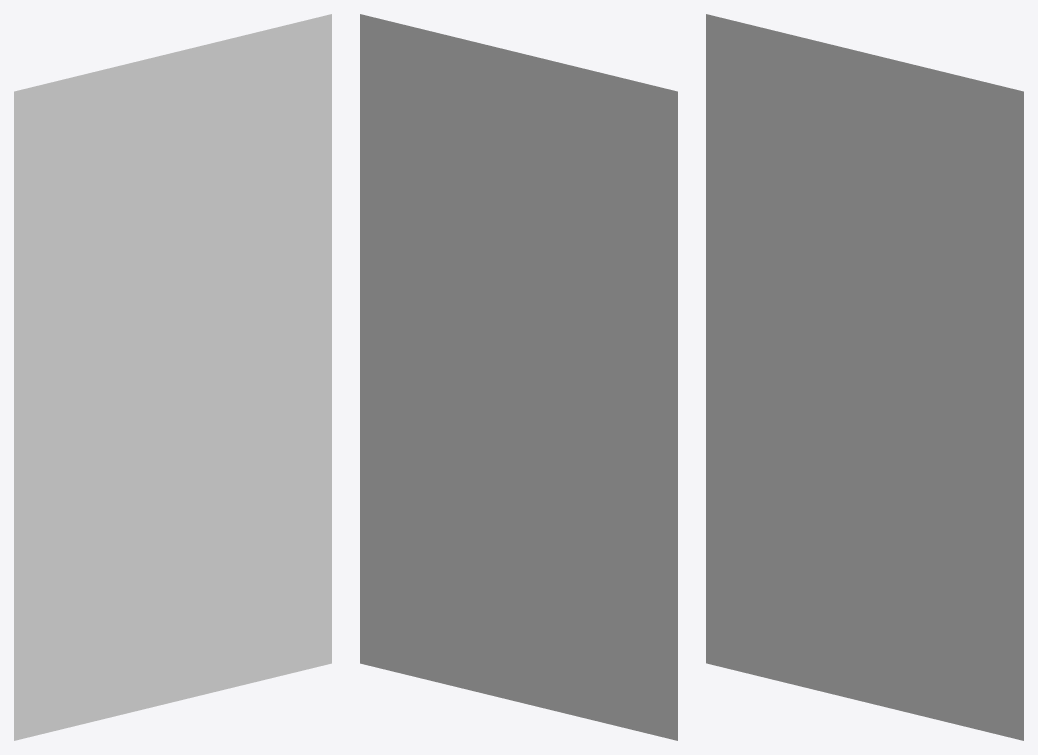
File: Itr_Wall_Small_Color_01.FBX
3 views of the same model, side by side, from view 1: azimuth 30°, elevation 25°; view 2: azimuth 150°, elevation 25°; view 3: azimuth 330°, elevation 25° (orthographic).
Visible parts, largest first — view 1: Itr_Wall_Color_01; view 2: Itr_Wall_Color_01; view 3: Itr_Wall_Color_01.
Part boxes in pixels (x1,y1,x2,y2): Itr_Wall_Color_01: (14,14,331,740); Itr_Wall_Color_01: (360,14,677,740); Itr_Wall_Color_01: (706,14,1023,740).
Size of the model in its own units: 35.57 by 69.49 by 0.000147.
